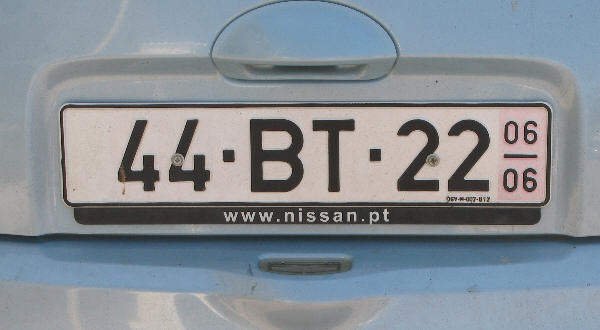license_plate: (60, 103, 550, 207)
